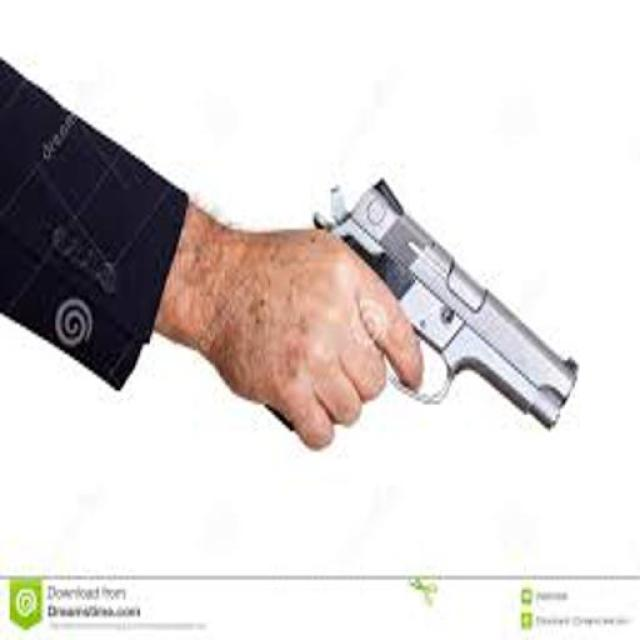pistol: (260, 171, 579, 451)
